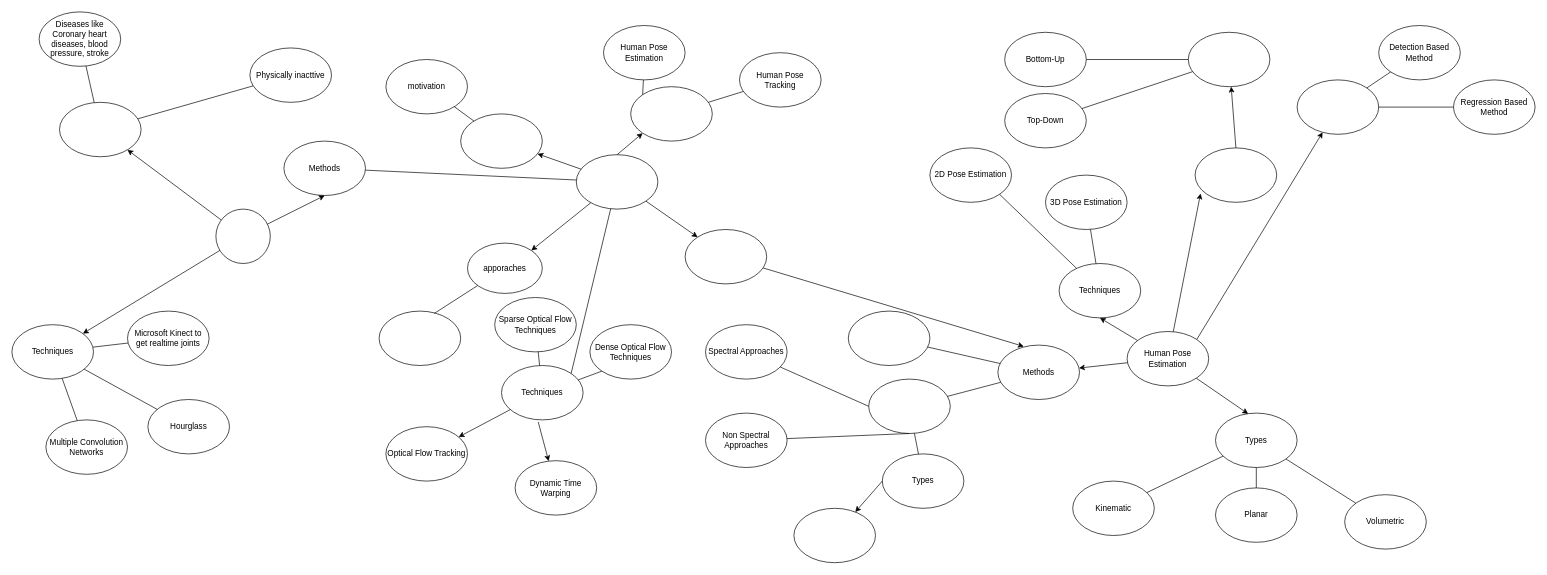
Image size: 1547x575. Some labels were removed from this diagram. The shapes that lost their labels are listed below. From the top down, each one's box as (x1, y1, x2, y2) in pixels, then its label:
(1188, 32, 1270, 87): Primary Approaches
(630, 86, 712, 141): Evoluation
(1296, 79, 1379, 134): Single Pose Estimation
(59, 102, 141, 157): Why
(460, 113, 542, 168): why?
(576, 154, 658, 209): Smart Gym Trainer
(1194, 147, 1277, 202): Multi Pose Estimation
(215, 208, 270, 264): Physical Fitness
(684, 229, 767, 284): Using computer vision
(378, 310, 461, 366): Using wearable devices
(848, 310, 930, 366): CNN
(868, 378, 950, 434): GCNN
(793, 508, 876, 563): PGCN
